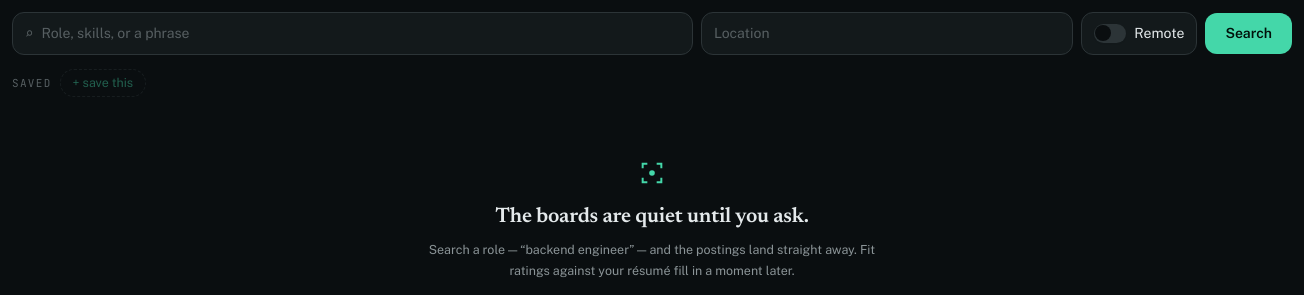
Scenario: sourcing workspace › quotes an adapter failure inline and retries from the same screen
In the field with test id "search-keywords": (361, 34) [41, 23, 680, 44], type "backend"
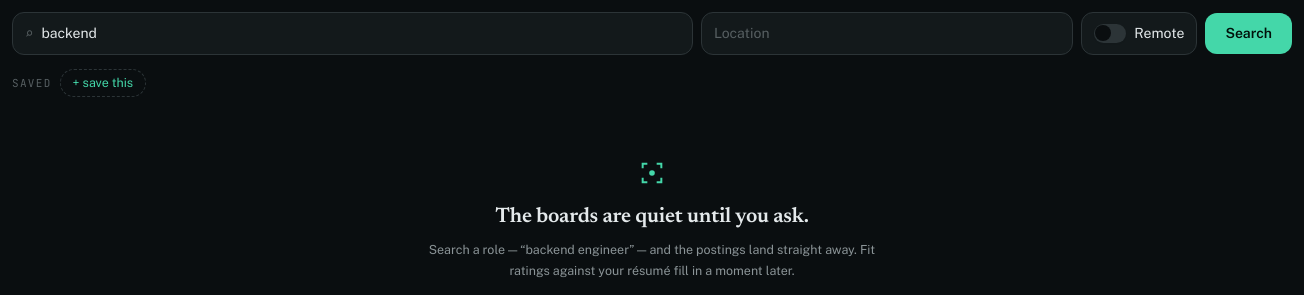
Click the button with test id "search-jobs": (1249, 34) [1205, 13, 1292, 54]
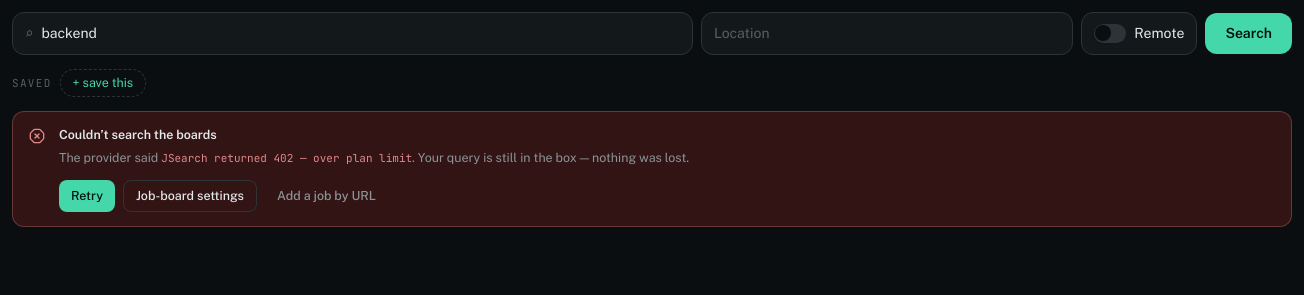
Now the element with test id "sourcing-error" shows "JSearch returned 402 — over plan limit", box [161, 151, 412, 165]
Click the button with test id "retry-search": (87, 196) [59, 180, 115, 212]
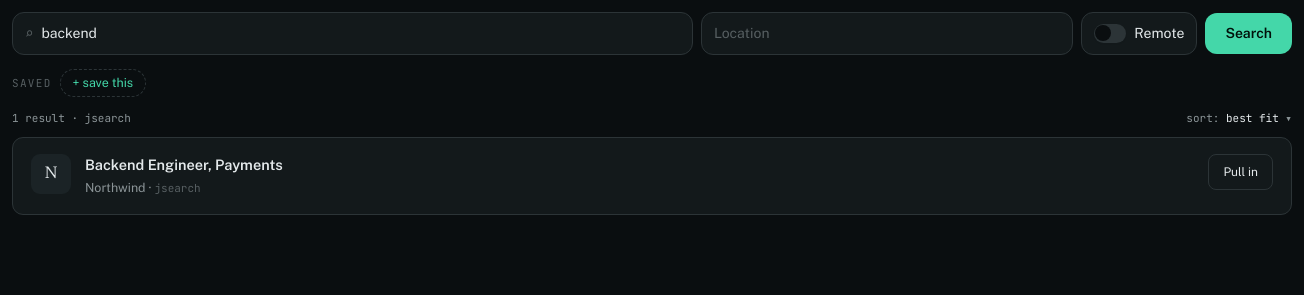
Now the element with test id "sourcing-error" is gone
Now the element with test id "sourcing-result" is shown, box [12, 138, 1292, 215]
